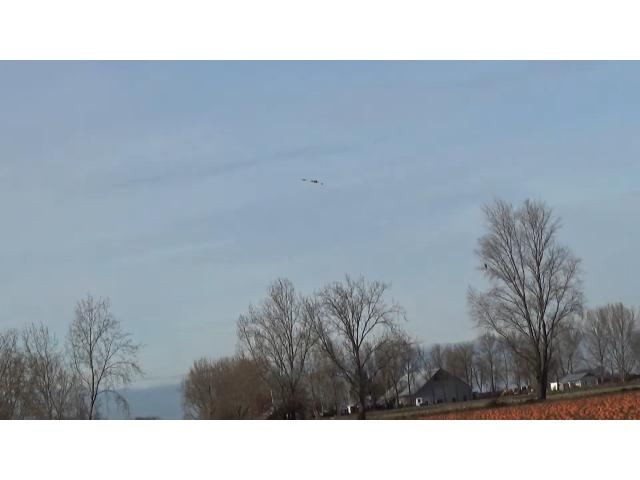Anti-Drone: (302, 179, 324, 184)
